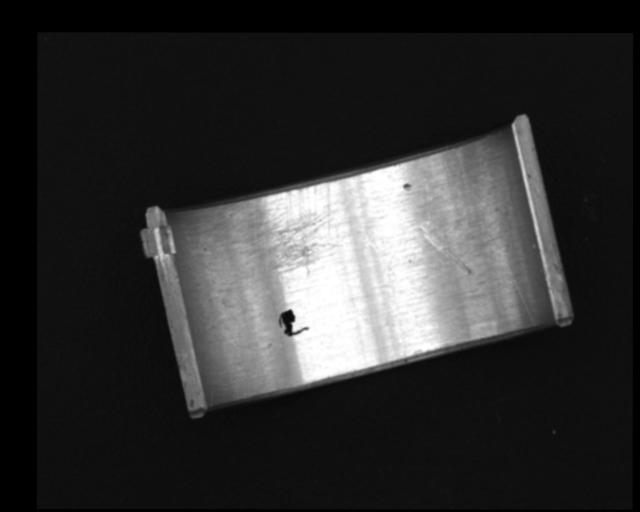blot: (278, 309, 309, 337)
bruise: (403, 181, 414, 191)
nick: (363, 236, 409, 360), (488, 235, 537, 328), (417, 225, 472, 274), (419, 172, 432, 230)
scratch: (215, 181, 342, 275)
